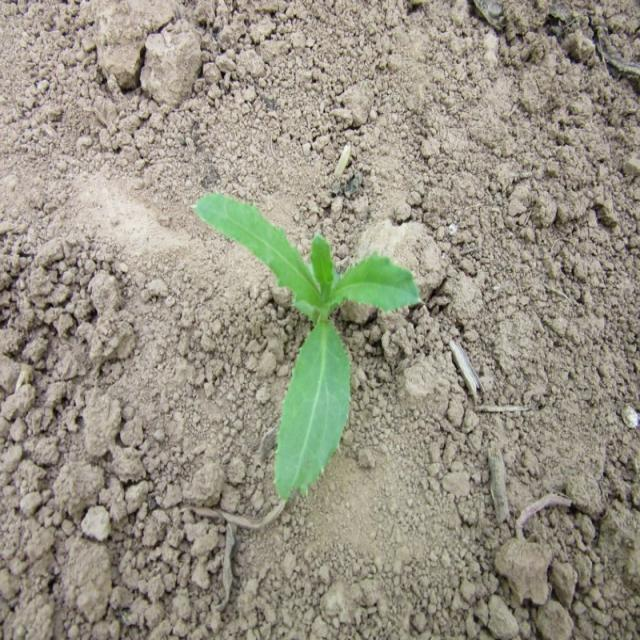cs: (196, 183, 424, 508)
